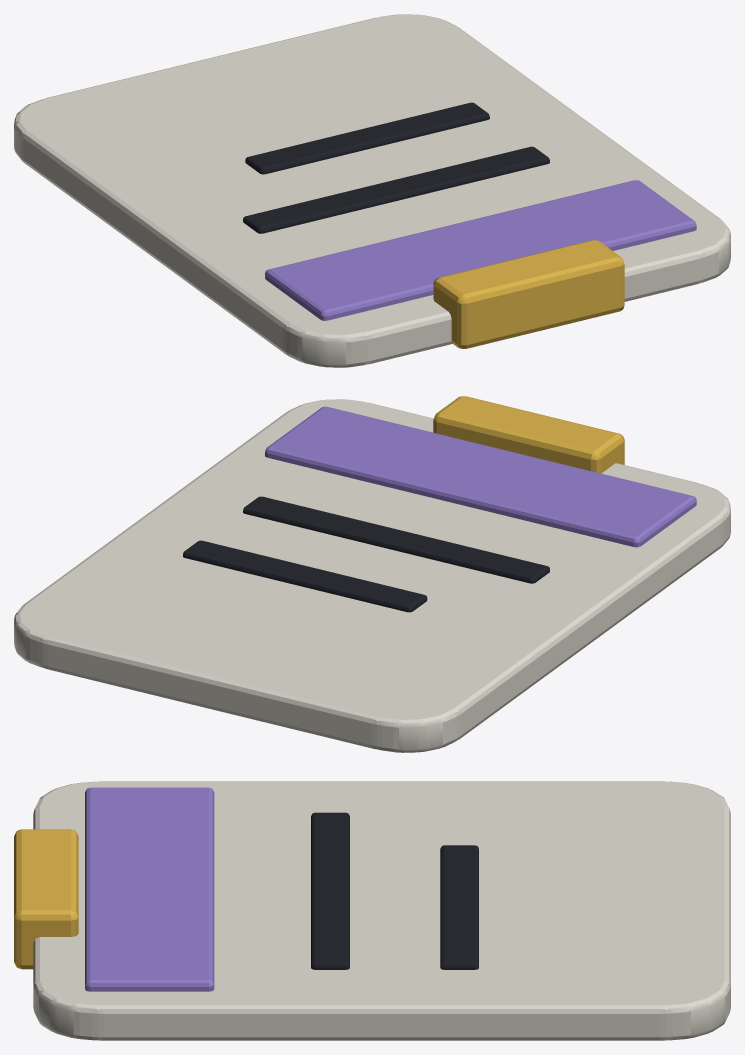
File: WallHabitat_TaskCard_Researcher.fbx
The picture shows the model from 3 angles, top to bottom: view 1: azimuth 30°, elevation 25°; view 2: azimuth 150°, elevation 25°; view 3: azimuth 270°, elevation 25°; orthographic projection. The views are drawn at different scales.
Parts seen in each view (by area): view 1: WallHabitat_TaskCard_Researcher_Mesh; view 2: WallHabitat_TaskCard_Researcher_Mesh; view 3: WallHabitat_TaskCard_Researcher_Mesh.
Boxes of the visible parts, x1,y1,x2,y2 form: WallHabitat_TaskCard_Researcher_Mesh: [14, 14, 730, 367]; WallHabitat_TaskCard_Researcher_Mesh: [14, 396, 730, 752]; WallHabitat_TaskCard_Researcher_Mesh: [14, 781, 730, 1040].
Size of the model in its own units: 4.2 by 0.5 by 5.55.
